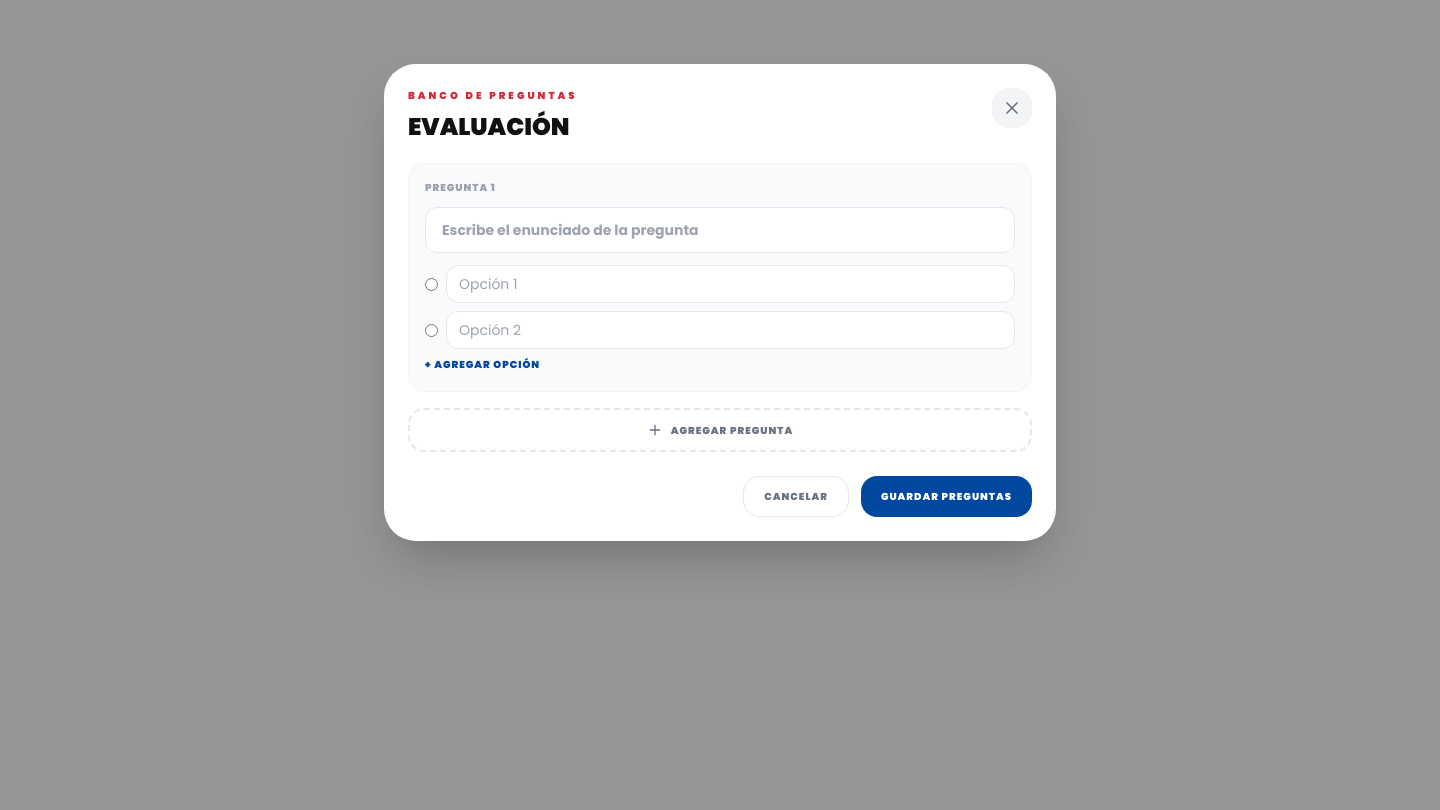
Test case: QuizEditorModal › rechaza guardar si falta el enunciado o no hay respuesta correcta marcada
Expected: the field labelled "Pregunta 1" is shown, [425,207,1015,253]
Click the button "Guardar preguntas" at (946, 496), box [861,476,1032,517]
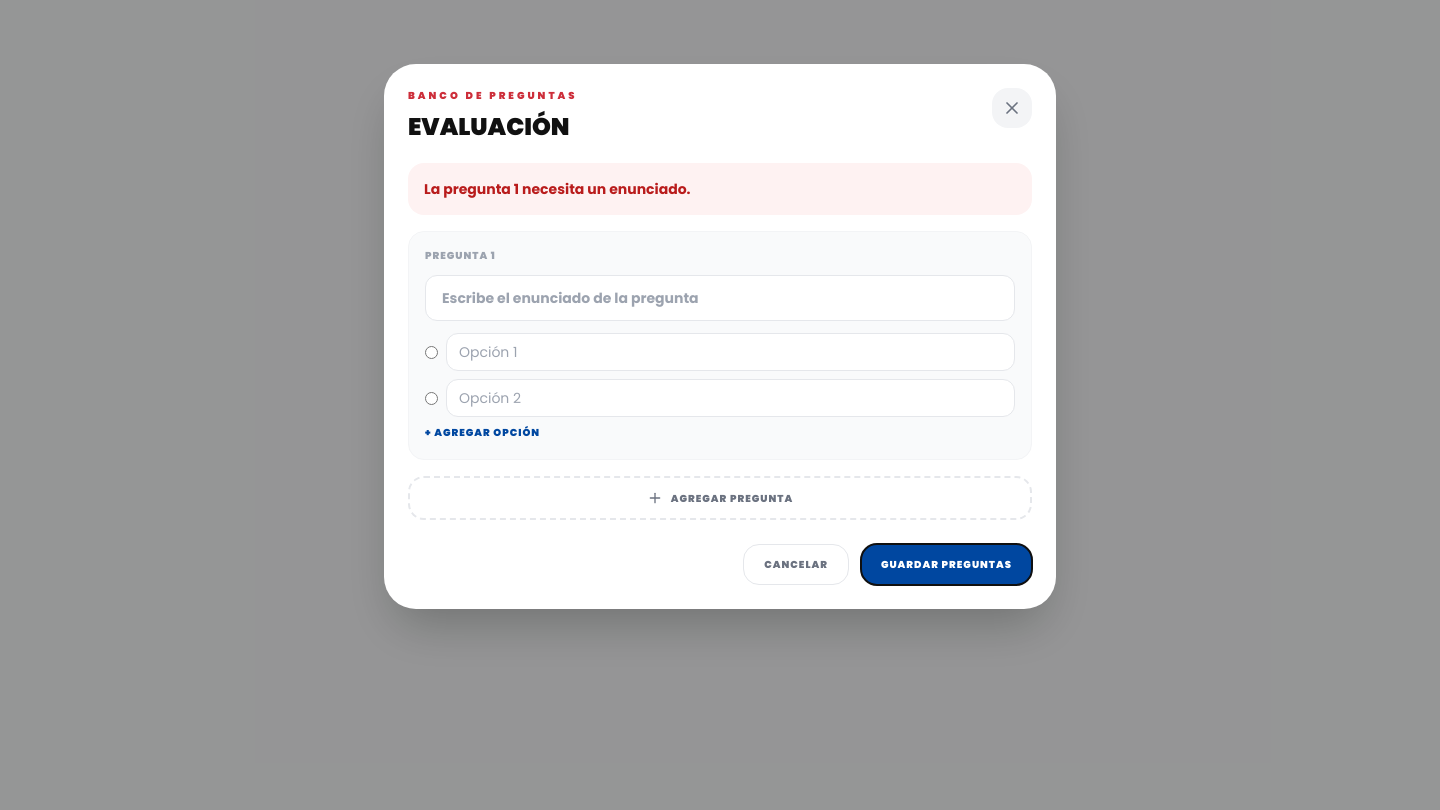
Now the text "La pregunta 1 necesita un enunciado." is shown, box [408,163,1032,215]
